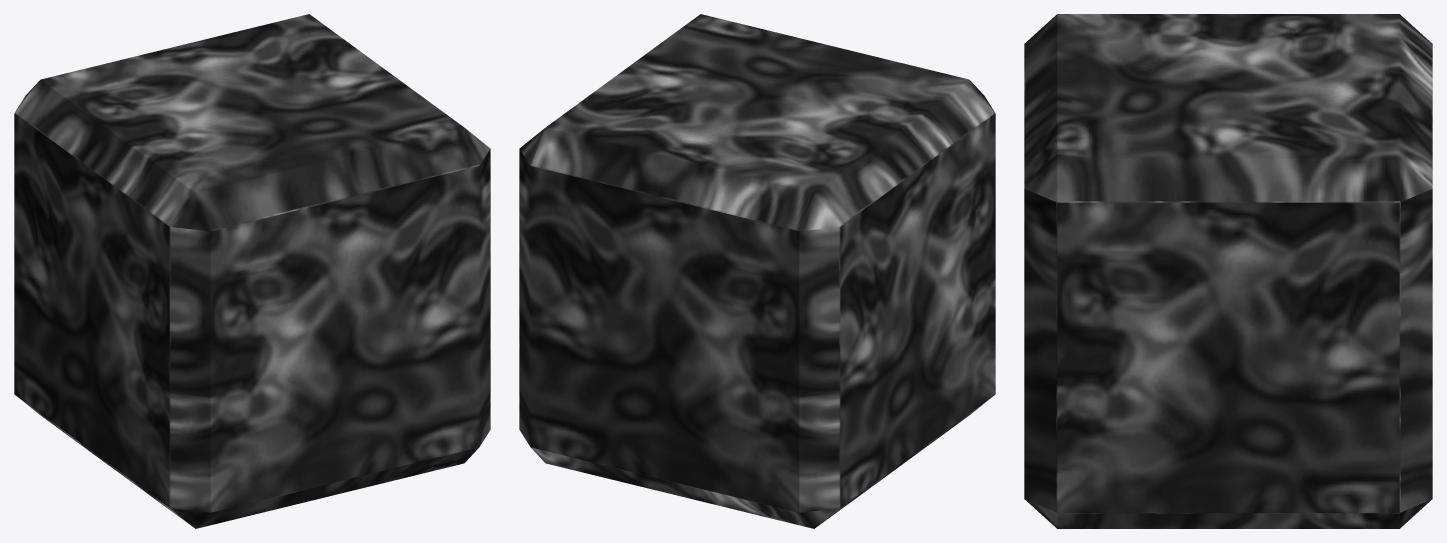
The model's file is FinalKingBlockStepA.fbx.
The picture shows the model from 3 angles, left to right: view 1: azimuth 30°, elevation 25°; view 2: azimuth 150°, elevation 25°; view 3: azimuth 270°, elevation 25°; orthographic projection. The views are drawn at different scales.
Visible parts, largest first — view 1: Cube.001; view 2: Cube.001; view 3: Cube.001.
Boxes of the visible parts, x1,y1,x2,y2 form: Cube.001: [14, 14, 490, 528]; Cube.001: [519, 14, 995, 528]; Cube.001: [1024, 14, 1432, 528].
Bounding box in the file's own units: 50000 × 50000 × 50000.
2 materials, 2 textured.
